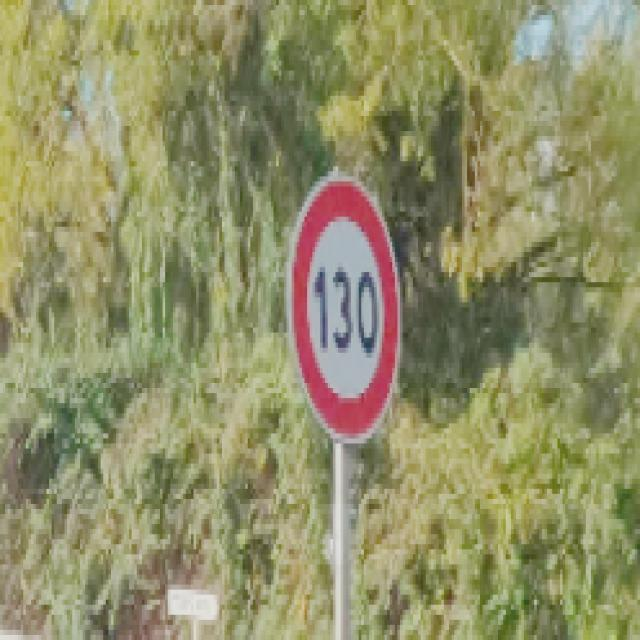speed_130: (287, 168, 402, 446)
